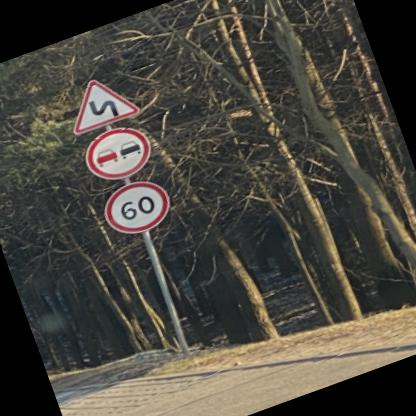speedlimit: (94, 172, 173, 242)
